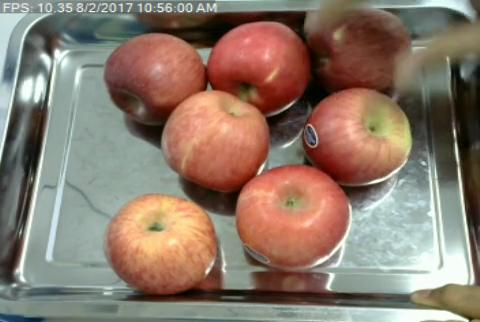apple: (238, 165, 350, 270), (104, 193, 217, 293), (304, 89, 413, 186), (161, 93, 268, 191), (207, 21, 310, 115), (102, 32, 206, 123), (311, 8, 411, 95)
